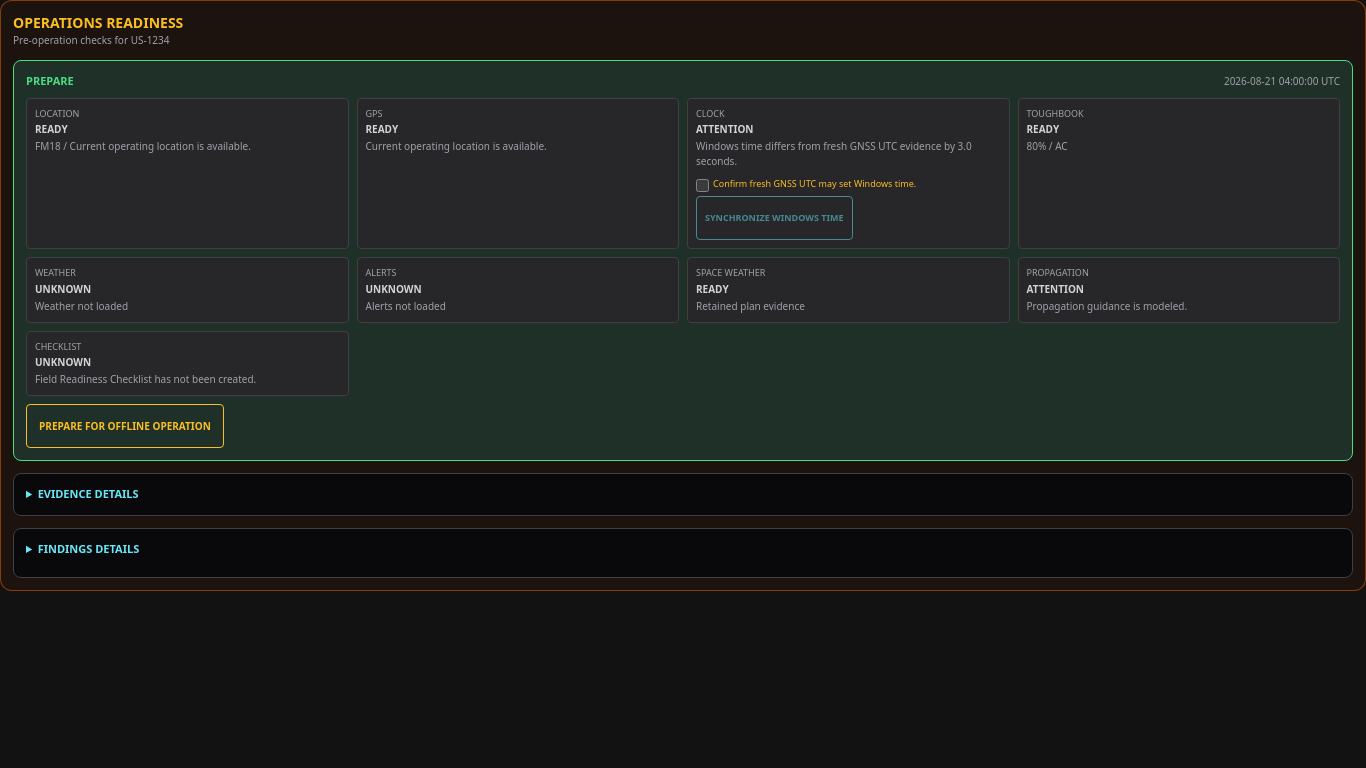
Scenario: OperationsReadinessWorkspace › exposes the confirmed clock action for attention and keeps it gated for ready evidence
Expected: the button "SYNCHRONIZE WINDOWS TIME" is disabled, [696, 196, 852, 240]
What coordinates should you click on to do the following:
click the checkbox named "Confirm Windows clock synchronization"
I would click on:
 (702, 186)
Its box is [696, 179, 709, 192].
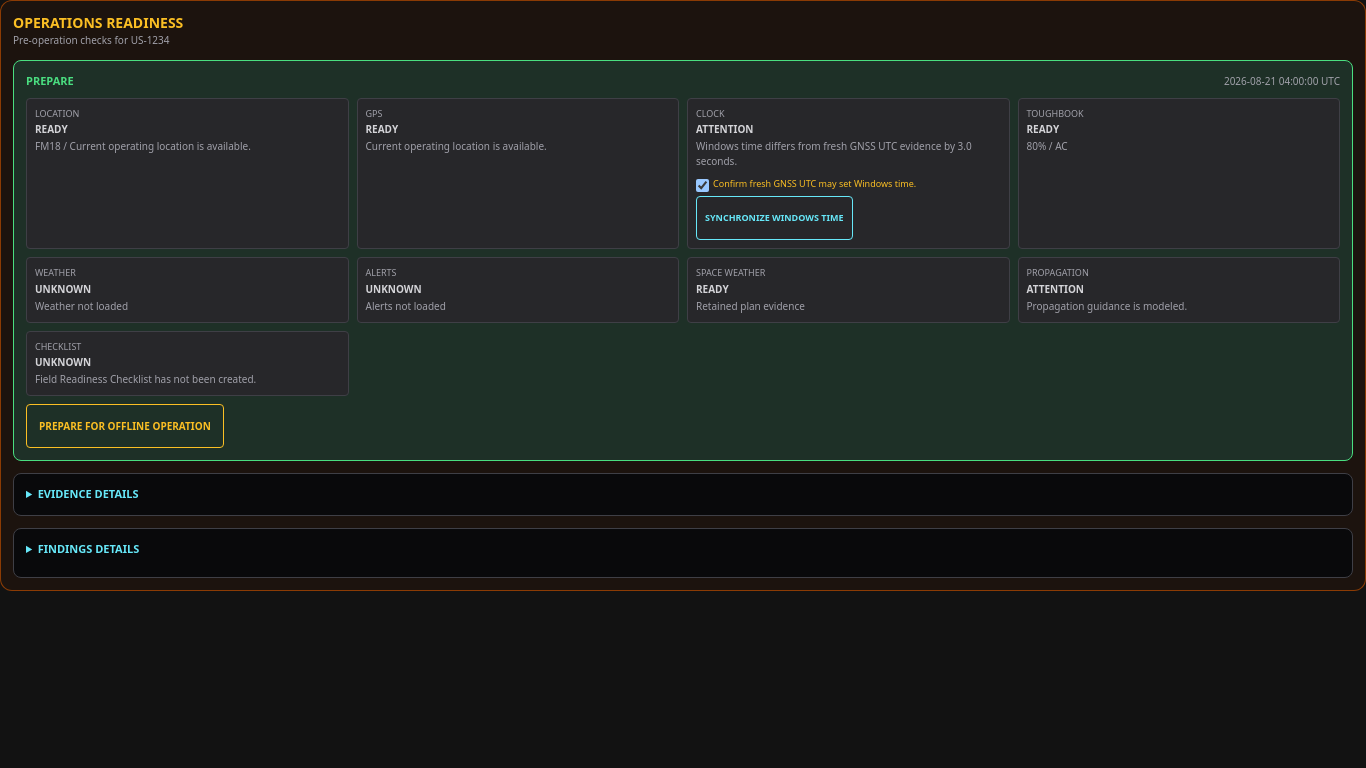
Expected: the button "SYNCHRONIZE WINDOWS TIME" is enabled, [696, 196, 852, 240]
